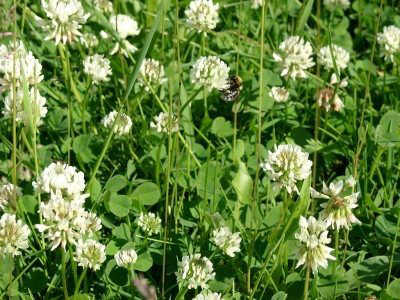clover: (3, 1, 391, 296)
